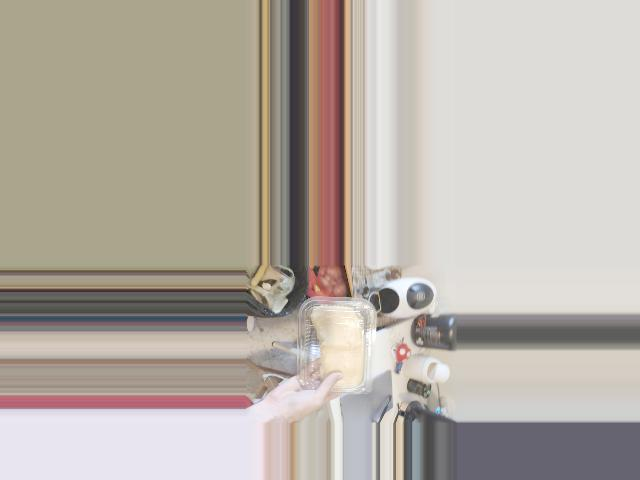cheese: (292, 304, 383, 390)
